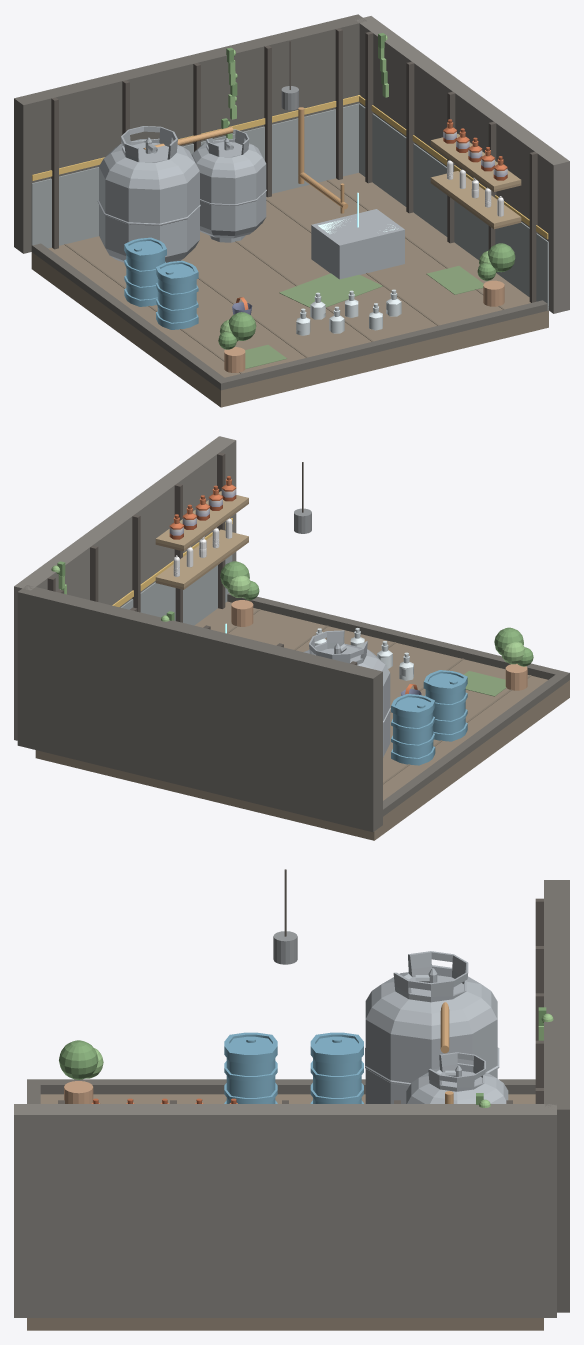
The model's file is well.glb.
The picture shows the model from 3 angles, top to bottom: view 1: azimuth 30°, elevation 25°; view 2: azimuth 150°, elevation 25°; view 3: azimuth 270°, elevation 25°; orthographic projection. The views are drawn at different scales.
Visible parts, largest first — view 1: floor, wallY, wallX, PropaneTank, tilesY, tilesX, PropaneTank.001, basin, curbY, curbX, barrel, barrel.001 (+20 smaller); view 2: wallY, floor, wallX, curbY, curbX, barrel.001, tilesX, barrel, PropaneTank, shelf, shelf.001, bx0 (+5 smaller); view 3: wallX, PropaneTank, floor, wallY, curbX, barrel.001, barrel, PropaneTank.001, leaf.005, lamp, pot.001.
Part boxes in pixels (left/top/right/bottom): floor: left=31, top=172, right=548, bottom=407; wallY: left=14, top=14, right=366, bottom=253; wallX: left=355, top=16, right=569, bottom=313; PropaneTank: left=97, top=126, right=200, bottom=262; tilesY: left=31, top=103, right=358, bottom=248; tilesX: left=358, top=103, right=548, bottom=310; PropaneTank.001: left=191, top=129, right=266, bottom=242; basin: left=311, top=209, right=404, bottom=279; curbY: left=216, top=300, right=548, bottom=390; curbX: left=31, top=243, right=229, bottom=390; barrel: left=156, top=260, right=198, bottom=329; barrel.001: left=124, top=237, right=166, bottom=306; wallY: left=17, top=585, right=382, bottom=832; floor: left=35, top=601, right=569, bottom=840; wallX: left=14, top=436, right=236, bottom=740; curbY: left=227, top=593, right=569, bottom=683; curbX: left=383, top=671, right=569, bottom=816; barrel.001: left=391, top=694, right=435, bottom=765; tilesX: left=121, top=555, right=232, bottom=625; barrel: left=423, top=670, right=467, bottom=741; PropaneTank: left=303, top=630, right=390, bottom=757; shelf: left=155, top=529, right=248, bottom=587; shelf.001: left=155, top=491, right=248, bottom=548; bx0: left=132, top=514, right=140, bottom=612; wallX: left=14, top=1104, right=556, bottom=1317; PropaneTank: left=365, top=951, right=499, bottom=1103; floor: left=27, top=1094, right=543, bottom=1330; wallY: left=544, top=880, right=569, bottom=1312; curbX: left=27, top=1079, right=535, bottom=1094; barrel.001: left=310, top=1032, right=363, bottom=1103; barrel: left=224, top=1032, right=277, bottom=1103; PropaneTank.001: left=406, top=1052, right=508, bottom=1103; leaf.005: left=59, top=1040, right=98, bottom=1079; lamp: left=273, top=931, right=297, bottom=964; pot.001: left=64, top=1081, right=93, bottom=1103.
Bounding box in the file's own units: 6.45 × 4.5 × 6.45.
37 materials, 6 textured.
